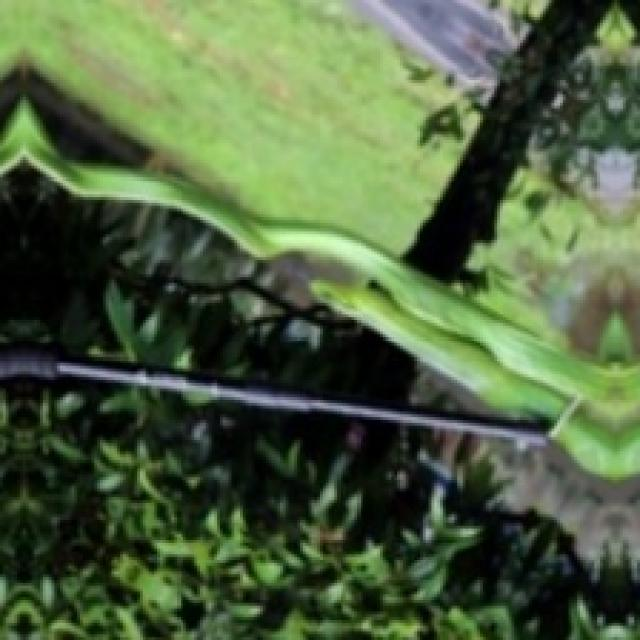red-tailed green ratsnake: (0, 100, 640, 479)
